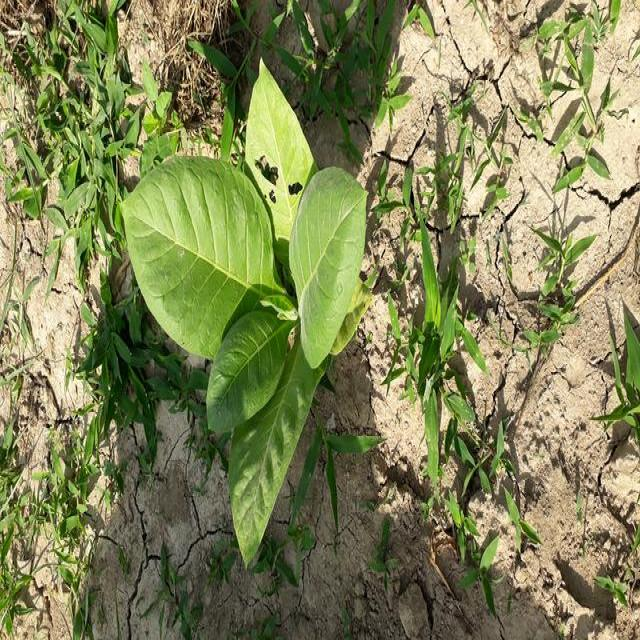crop: (119, 81, 358, 562)
